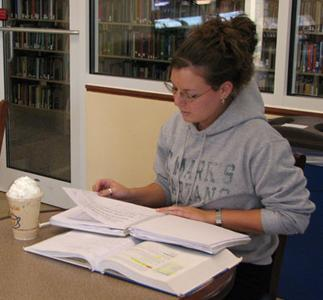person: (94, 15, 316, 300)
